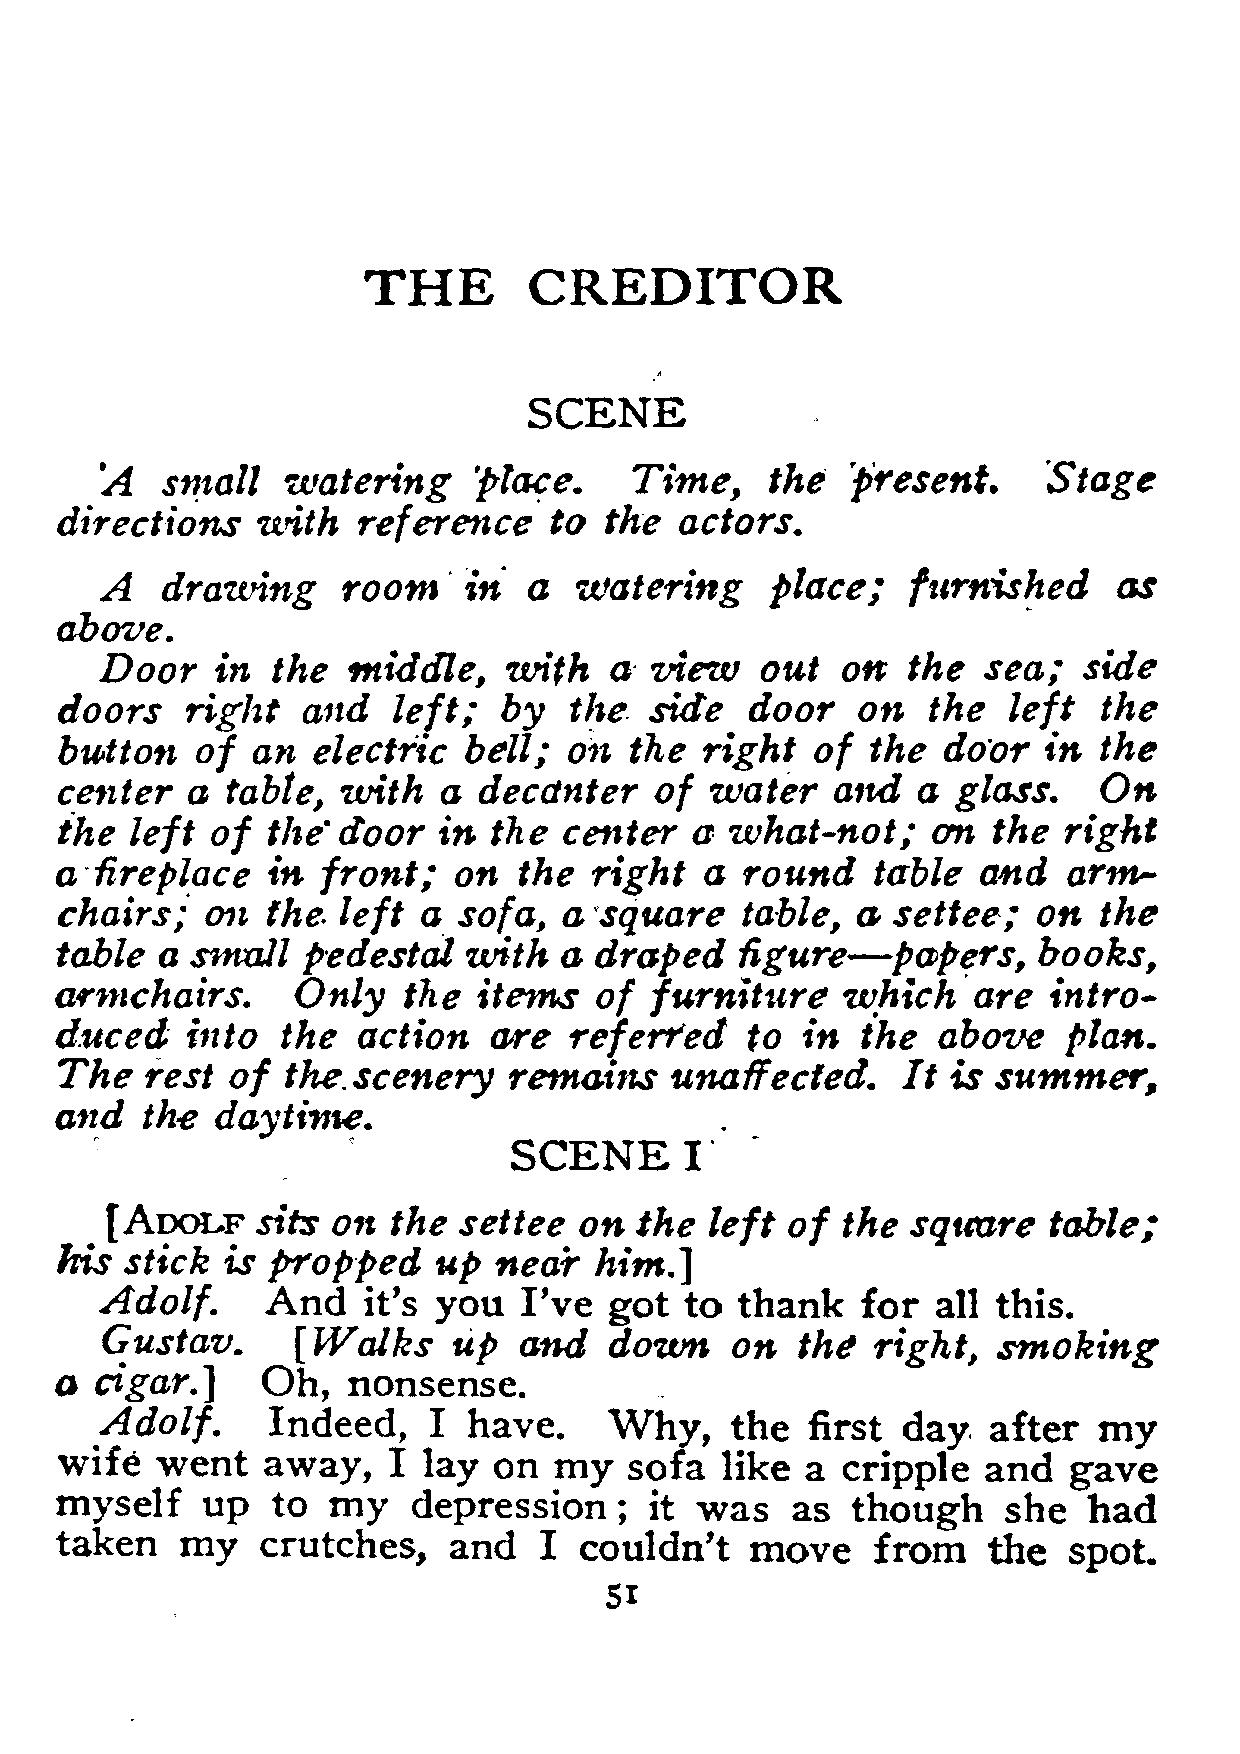chapter: (358, 262, 845, 306), (506, 1137, 705, 1176), (522, 391, 687, 429)
content: (54, 456, 1159, 1139), (52, 1201, 1159, 1577)
content_pagenumber: (600, 1580, 641, 1614)
